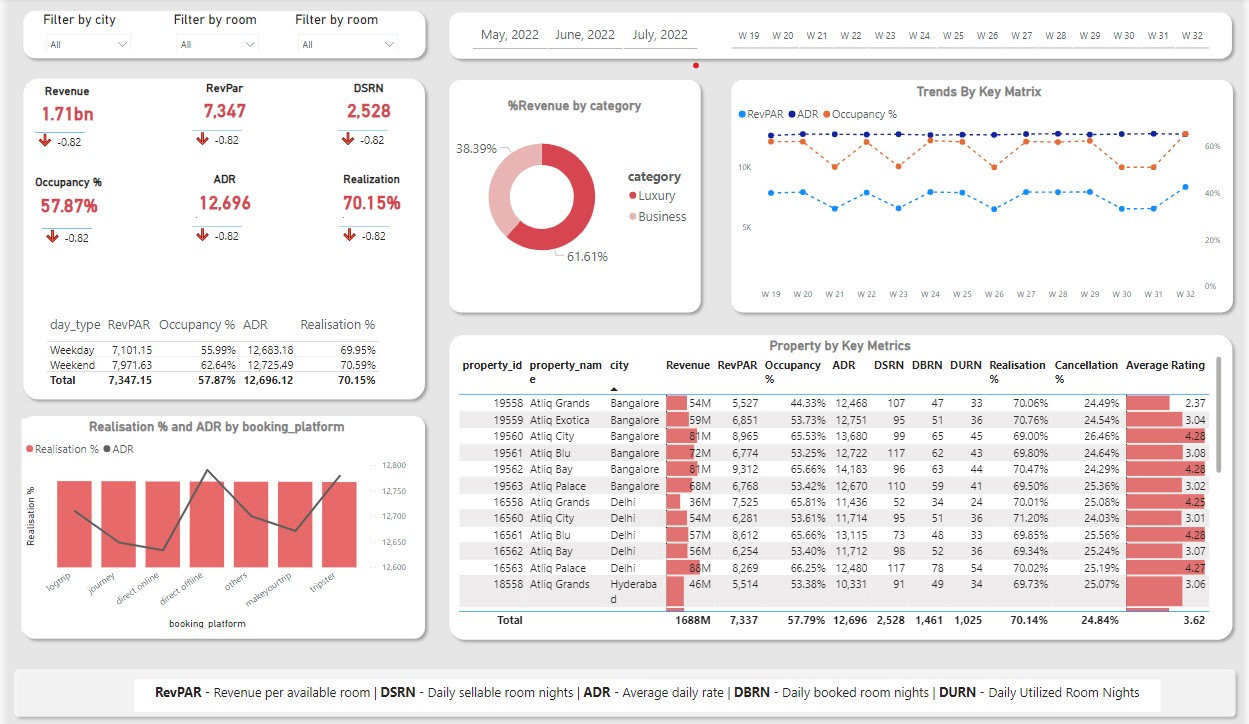

What the dashboard file says about the page in this screenshot:
{"tool":"powerbi","page":{"name":"Page 2","canvas":[1800,1100],"ordinal":1},"visuals":[{"type":"shape","box":[634.8,482.6,1160.9,463],"z":0},{"type":"shape","box":[13,602.2,604.3,343.5],"z":1000},{"type":"shape","box":[635,112.5,385,357.5],"z":2000},{"type":"shape","box":[1045,112.5,750,357.5],"z":3000},{"type":"shape","box":[13,108.7,604.3,487],"z":4000},{"type":"shape","box":[635.3,12.3,1160,86],"z":5000},{"type":"shape","box":[12.5,10,605,87.5],"z":6000},{"type":"tableEx","title":"Property by Key Metrics","fields":{"Values":["dim_hotels.property_id","dim_hotels.property_name","dim_hotels.city","key_measures.Revenue","key_measures.RevPAR","key_measures.Occupancy %","key_measures.ADR","key_measures.DSRN","key_measures.DBRN","key_measures.DURN","key_measures.Realisation %","key_measures.Cancellation %"]},"box":[652.2,497.8,1123.9,428.3],"z":7000},{"type":"slicer","title":"Filter by city","fields":{"Values":["dim_hotels.city"]},"box":[45.7,21.7,143.5,58],"z":8000},{"type":"slicer","title":"Filter by room","fields":{"Values":["dim_rooms.room_class"]},"box":[237,21.7,139.1,58],"z":9000},{"type":"slicer","title":"mmm","fields":{"Values":["dim_date.mmm yy"]},"box":[652.5,26.2,377.5,56.2],"z":10000},{"type":"slicer","fields":{"Values":["dim_date.week no"]},"box":[1030,30,745,51.2],"z":11000},{"type":"tableEx","title":"Revenue WoW Change","fields":{"Values":["key_measures.Revenue WoW change %"]},"box":[33.2,162.9,105,88.3],"z":12000},{"type":"tableEx","title":"Revenue WoW Change","fields":{"Values":["key_measures.Revenue WoW change %"]},"box":[33.2,164.8,105,88.3],"z":13000},{"type":"card","title":"Revenue","fields":{"Values":["key_measures.Revenue"]},"box":[25.7,126.8,120,65],"z":14000},{"type":"donutChart","title":"%Revenue by category","fields":{"Category":["dim_hotels.category"],"Y":["key_measures.Revenue"]},"box":[647.5,147.5,357.5,267.5],"z":15000},{"type":"tableEx","title":"Revenue WoW Change","fields":{"Values":["key_measures.Revenue WoW change %"]},"box":[262.8,301,105,88.8],"z":16000},{"type":"tableEx","title":"Revenue WoW Change","fields":{"Values":["key_measures.Revenue WoW change %"]},"box":[262.8,161.3,105,88.3],"z":17000},{"type":"card","title":"RevPar","fields":{"Values":["key_measures.RevPAR"]},"box":[255.3,123.3,120,65],"z":18000},{"type":"tableEx","title":"Revenue WoW Change","fields":{"Values":["key_measures.Revenue WoW change %"]},"box":[474.1,161.4,105,88.3],"z":19000},{"type":"card","title":"DSRN","fields":{"Values":["key_measures.DSRN"]},"box":[466.6,123.4,120,65],"z":20000},{"type":"tableEx","title":"Revenue WoW Change","fields":{"Values":["key_measures.Revenue WoW change %"]},"box":[43,304.4,105,88.8],"z":21000},{"type":"tableEx","title":"Revenue WoW Change","fields":{"Values":["key_measures.Revenue WoW change %"]},"box":[477.5,301.1,105,88.8],"z":22000},{"type":"card","title":"Occupancy %","fields":{"Values":["key_measures.Occupancy %"]},"box":[27.6,260.1,120,65],"z":23000},{"type":"card","title":"ADR","fields":{"Values":["key_measures.ADR"]},"box":[255.3,256.7,120,65],"z":24000},{"type":"card","title":"Realization","fields":{"Values":["key_measures.Realisation %"]},"box":[470,256.8,120,65],"z":25000},{"type":"lineChart","title":"Trends By Key Matrix","fields":{"Category":["dim_date.mmm yy.Variation.Date Hierarchy.Month","dim_date.week no"],"Y":["key_measures.RevPAR","key_measures.ADR"],"Y2":["key_measures.Occupancy %"]},"box":[1060,127.5,715,325],"z":26000},{"type":"lineStackedColumnComboChart","fields":{"Category":["fact_bookings.booking_platform"],"Y":["key_measures.Realisation %"],"Y2":["key_measures.ADR"]},"box":[19.6,615.2,569.6,310.9],"z":27000},{"type":"tableEx","fields":{"Values":["dim_date.day_type","key_measures.RevPAR","key_measures.Occupancy %","key_measures.ADR","key_measures.Realisation %"]},"box":[49.4,460.1,504.3,119.6],"z":28000},{"type":"slicer","title":"Filter by room","fields":{"Values":["dim_rooms.room_class"]},"box":[413,21.7,165.2,58],"z":29000},{"type":"shape","box":[0,972.5,1800,87.5],"z":30000},{"type":"textbox","box":[184.4,995,1497.5,47.5],"z":31000}]}

Visuals, with their boxes on the page's 1800x1100 design canvas (x1, y1, x2, y2). These are canvas units, not pixel positions in the 1249x724 screenshot, which may show the page scaled, cropped or inside an application window:
shape: {"left": 635, "top": 483, "right": 1796, "bottom": 946}
shape: {"left": 13, "top": 602, "right": 617, "bottom": 946}
shape: {"left": 635, "top": 112, "right": 1020, "bottom": 470}
shape: {"left": 1045, "top": 112, "right": 1795, "bottom": 470}
shape: {"left": 13, "top": 109, "right": 617, "bottom": 596}
shape: {"left": 635, "top": 12, "right": 1795, "bottom": 98}
shape: {"left": 12, "top": 10, "right": 618, "bottom": 98}
"Property by Key Metrics" tableEx: {"left": 652, "top": 498, "right": 1776, "bottom": 926}
"Filter by city" slicer: {"left": 46, "top": 22, "right": 189, "bottom": 80}
"Filter by room" slicer: {"left": 237, "top": 22, "right": 376, "bottom": 80}
"mmm" slicer: {"left": 652, "top": 26, "right": 1030, "bottom": 82}
slicer - dim_date.week no: {"left": 1030, "top": 30, "right": 1775, "bottom": 81}
"Revenue WoW Change" tableEx: {"left": 33, "top": 163, "right": 138, "bottom": 251}
"Revenue WoW Change" tableEx: {"left": 33, "top": 165, "right": 138, "bottom": 253}
"Revenue" card: {"left": 26, "top": 127, "right": 146, "bottom": 192}
"%Revenue by category" donutChart: {"left": 648, "top": 148, "right": 1005, "bottom": 415}
"Revenue WoW Change" tableEx: {"left": 263, "top": 301, "right": 368, "bottom": 390}
"Revenue WoW Change" tableEx: {"left": 263, "top": 161, "right": 368, "bottom": 250}
"RevPar" card: {"left": 255, "top": 123, "right": 375, "bottom": 188}
"Revenue WoW Change" tableEx: {"left": 474, "top": 161, "right": 579, "bottom": 250}
"DSRN" card: {"left": 467, "top": 123, "right": 587, "bottom": 188}
"Revenue WoW Change" tableEx: {"left": 43, "top": 304, "right": 148, "bottom": 393}
"Revenue WoW Change" tableEx: {"left": 478, "top": 301, "right": 582, "bottom": 390}
"Occupancy %" card: {"left": 28, "top": 260, "right": 148, "bottom": 325}
"ADR" card: {"left": 255, "top": 257, "right": 375, "bottom": 322}
"Realization" card: {"left": 470, "top": 257, "right": 590, "bottom": 322}
"Trends By Key Matrix" lineChart: {"left": 1060, "top": 128, "right": 1775, "bottom": 452}
lineStackedColumnComboChart - fact_bookings.booking_platform x key_measures.Realisation %: {"left": 20, "top": 615, "right": 589, "bottom": 926}
tableEx - dim_date.day_type x key_measures.RevPAR: {"left": 49, "top": 460, "right": 554, "bottom": 580}
"Filter by room" slicer: {"left": 413, "top": 22, "right": 578, "bottom": 80}
shape: {"left": 0, "top": 972, "right": 1800, "bottom": 1060}
textbox: {"left": 184, "top": 995, "right": 1682, "bottom": 1042}
